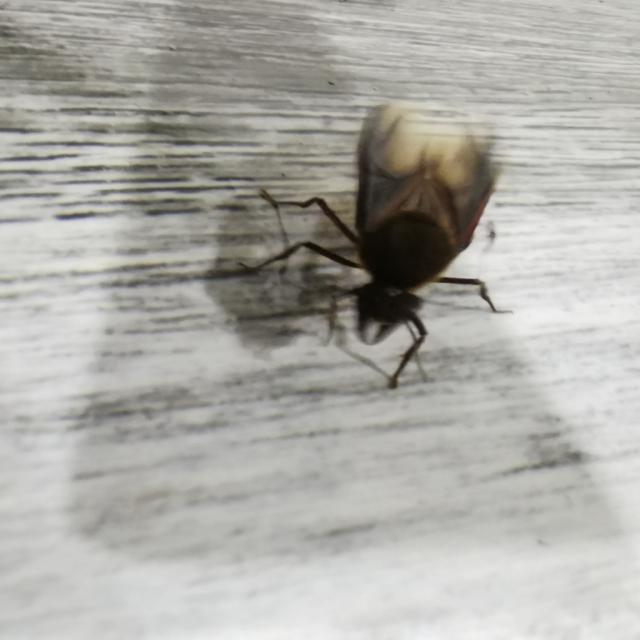Alive-Female-Alate: (237, 103, 513, 390)
